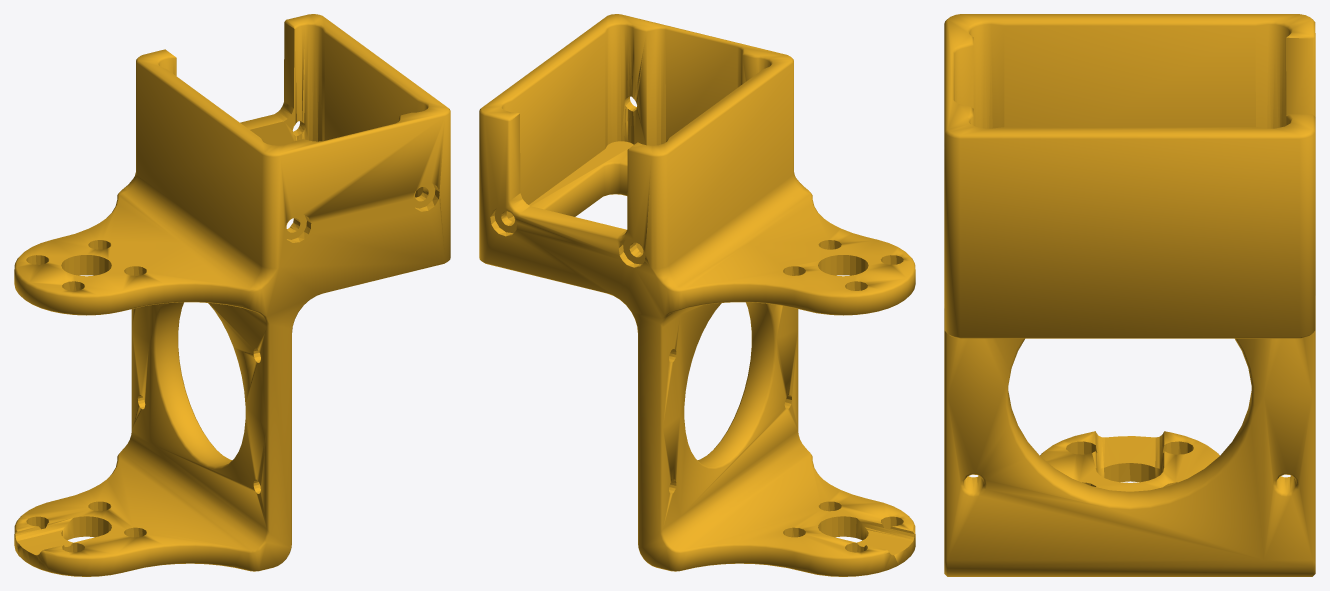
Rendered from right_arm_link1_arm.dae.
3 renders of one model, left to right at view 1: azimuth 30°, elevation 25°; view 2: azimuth 150°, elevation 25°; view 3: azimuth 270°, elevation 25°, orthographic. The views are drawn at different scales.
Visible parts, largest first — view 1: node; view 2: node; view 3: node.
Boxes of the visible parts, box(x1,y1,x2,y2) form: node: box(14, 14, 450, 576); node: box(479, 14, 915, 576); node: box(944, 14, 1315, 576).
Size of the model in its own units: 0.058 by 0.038 by 0.063.
